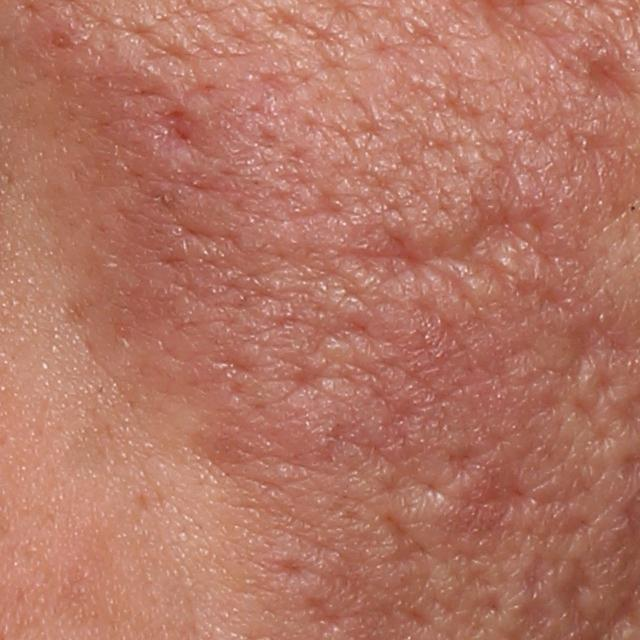atrophic_scar: (331, 188, 564, 309), (152, 106, 225, 171), (378, 501, 436, 578), (584, 46, 640, 114), (261, 553, 317, 583)
